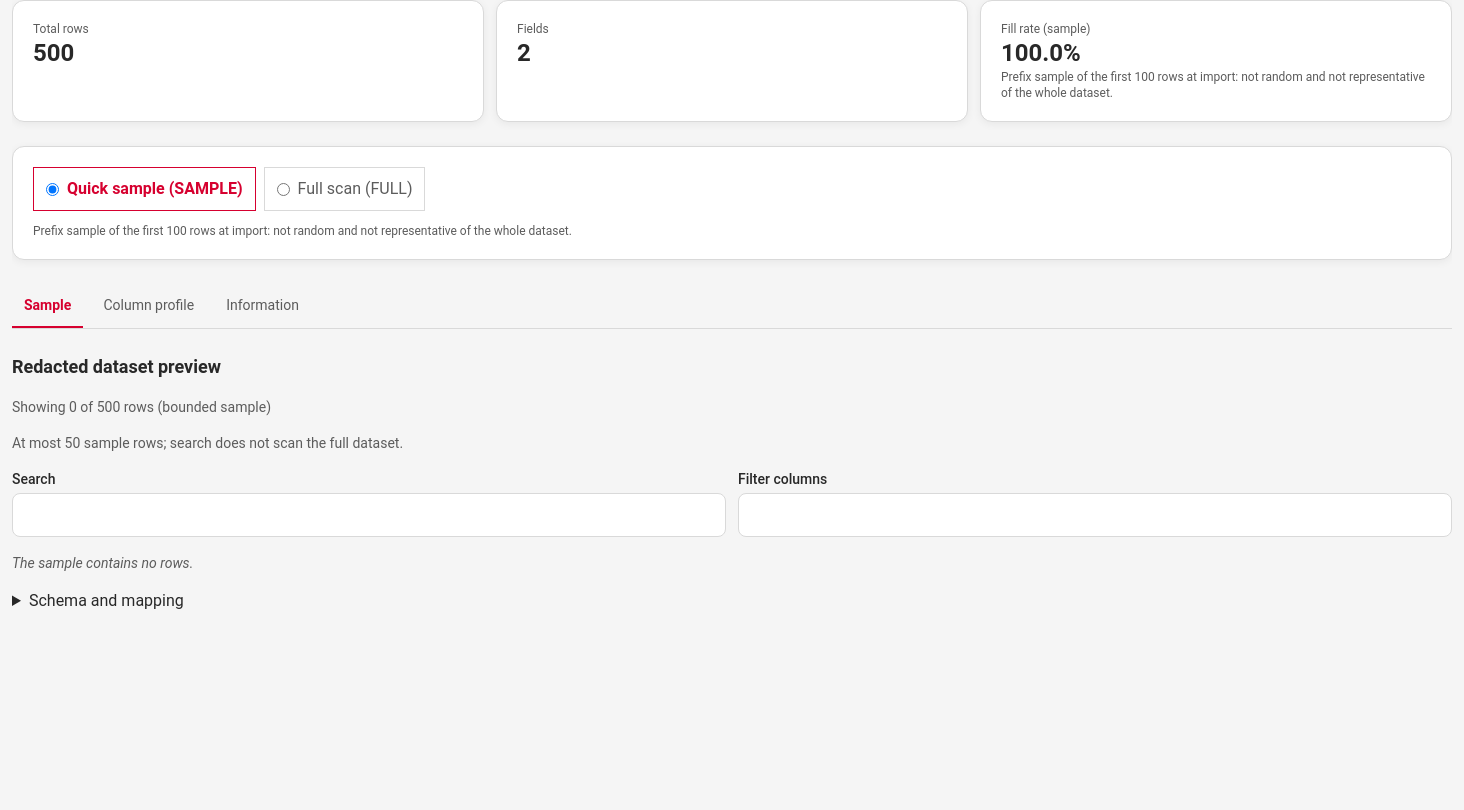
Test: never renders protected extrema or distinct counts; unprotected extrema appear on disclosure
Click the tab "Column profile". click: {"x": 149, "y": 306}
box: 91,284 -> 206,328
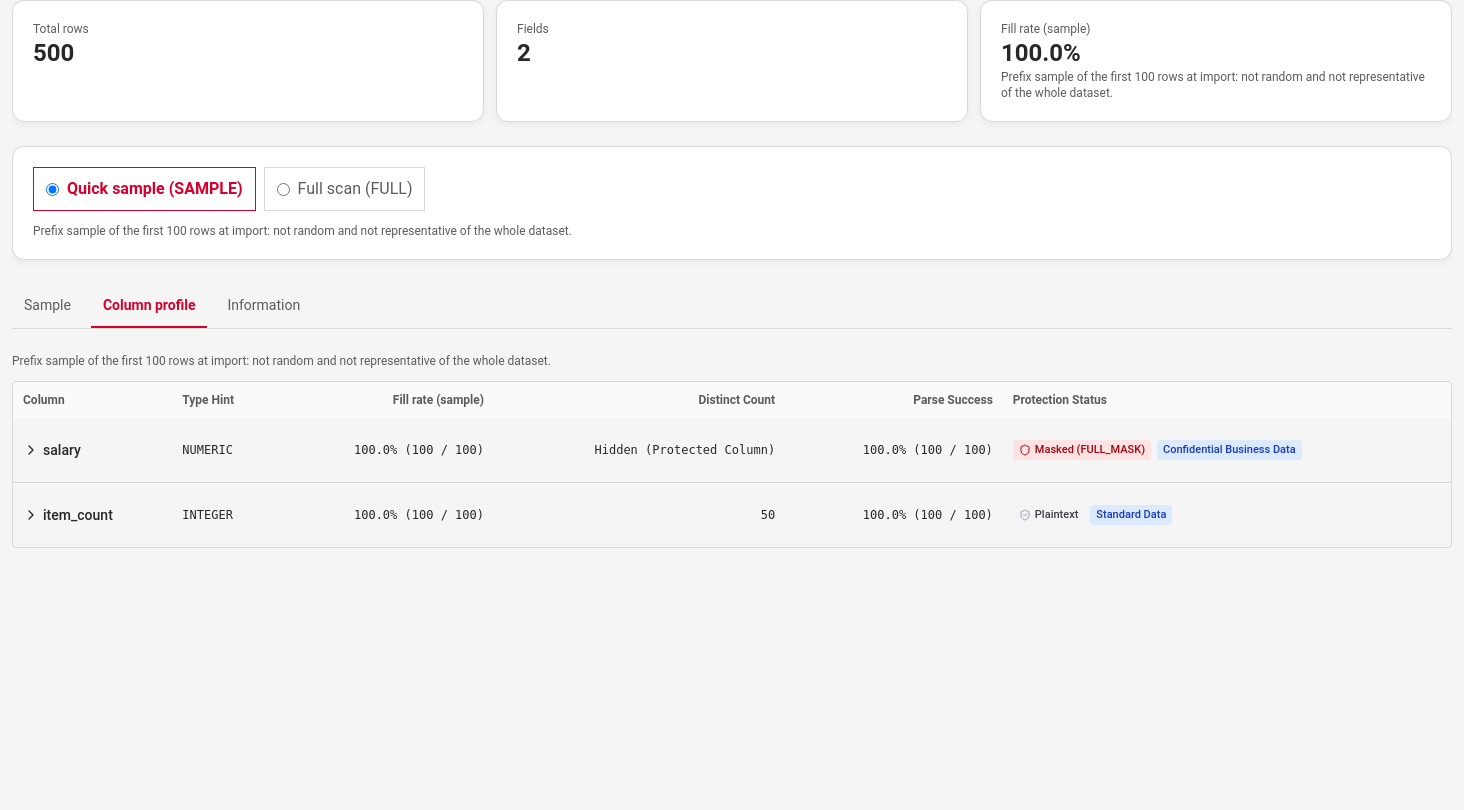
Click the button "salary". click: {"x": 52, "y": 450}
box: 23,428 -> 81,472
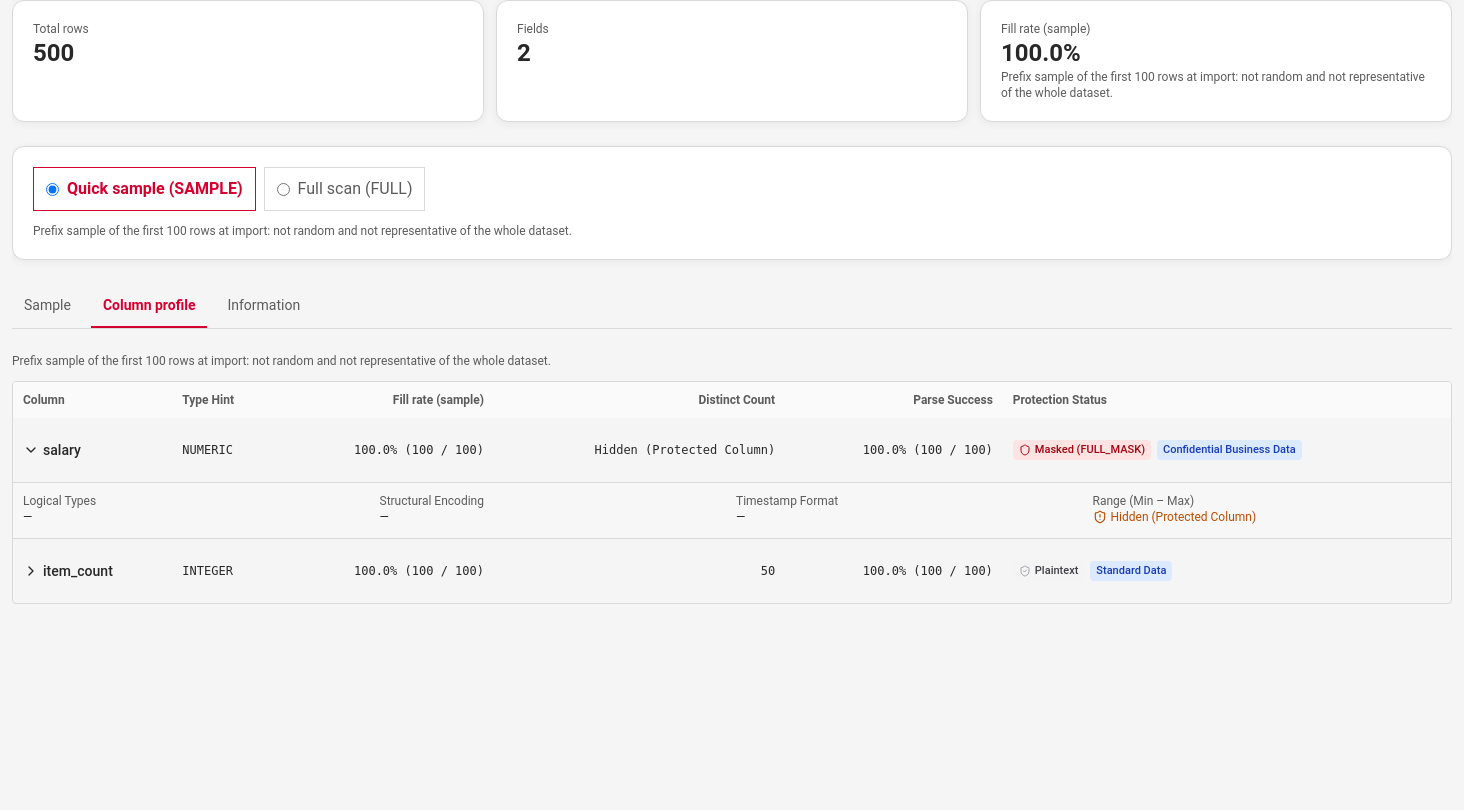
Click the button "item_count". click: {"x": 68, "y": 571}
box: 23,549 -> 113,593
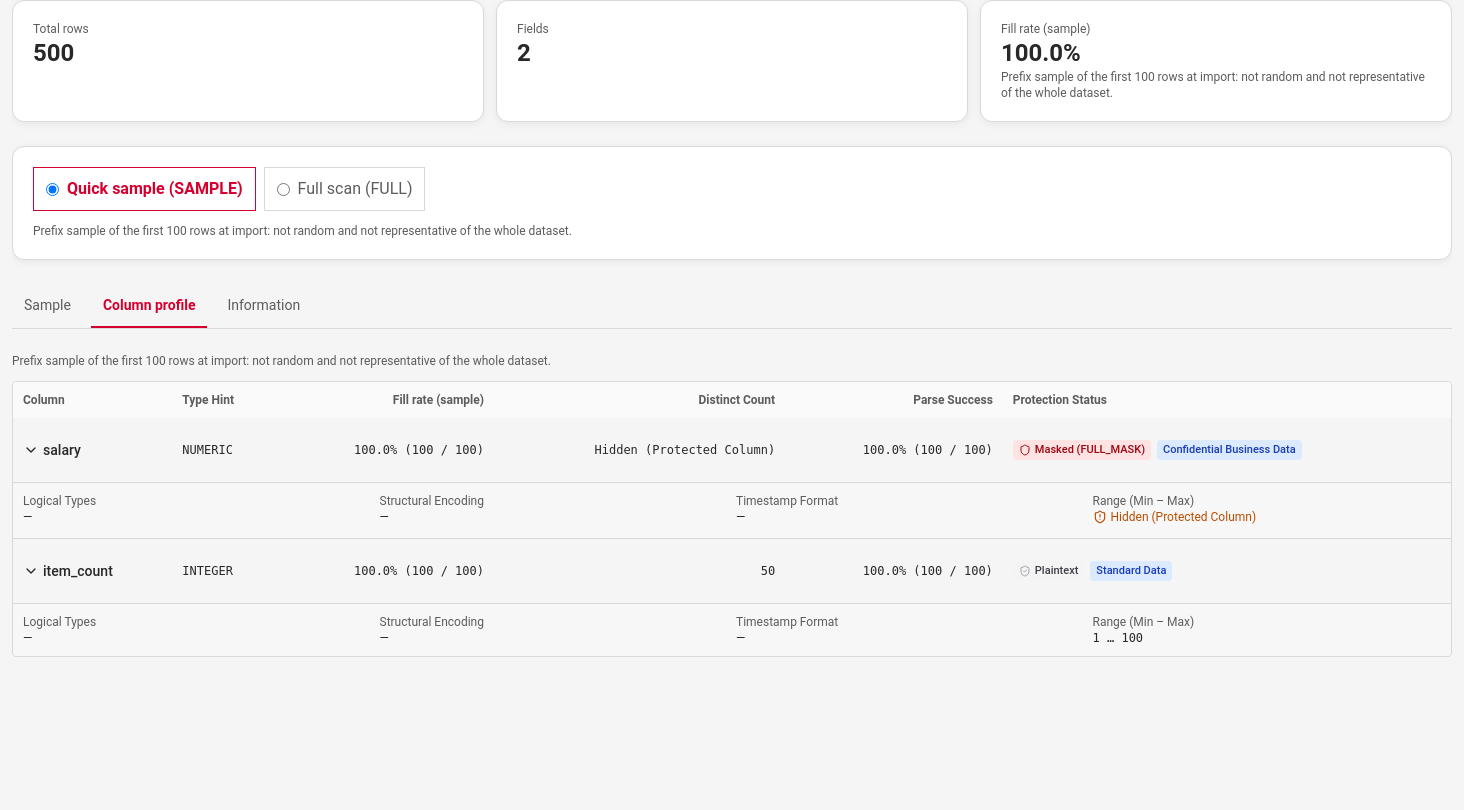
Result: the text "1 … 100" is shown at 1092,631 -> 1143,645
